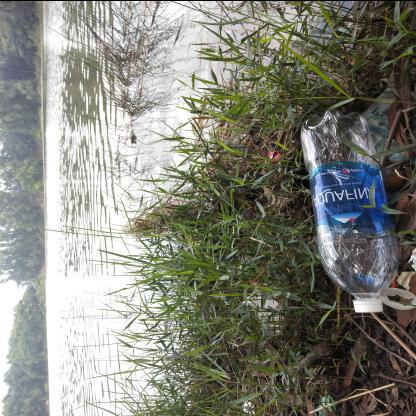plastik: (300, 111, 401, 315)
